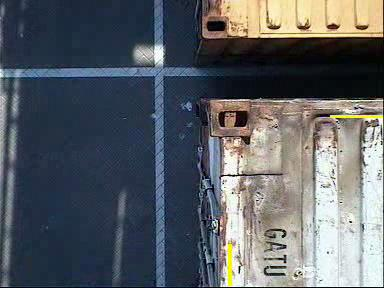groundmarker_2: (190, 48, 225, 109), (189, 223, 224, 284)
